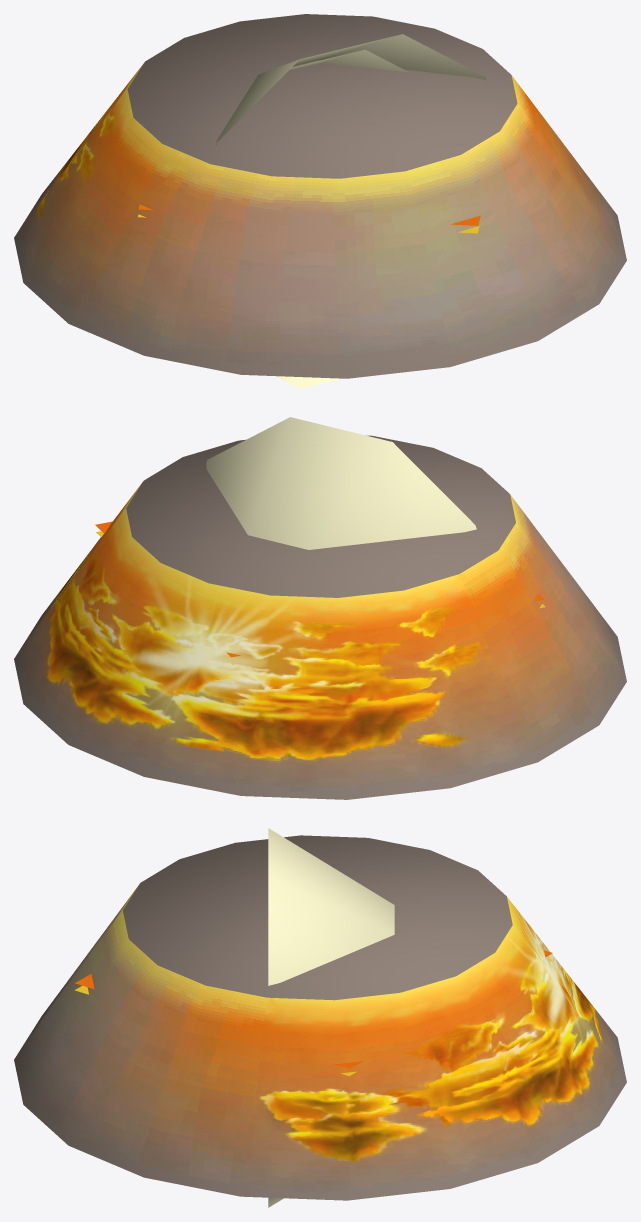
File: TROLLHOLESKYBOX.obj
3 views of the same model, one above another, from view 1: azimuth 30°, elevation 25°; view 2: azimuth 150°, elevation 25°; view 3: azimuth 270°, elevation 25° (orthographic).
Visible parts, largest first — view 1: Skybox01, SunBeamsB, SunbeamsA; view 2: Skybox01, SunBeamsB; view 3: Skybox01, SunBeamsB.
Part boxes in pixels (x1,y1,x2,y2): Skybox01: [14, 14, 626, 378]; SunBeamsB: [216, 34, 486, 388]; SunbeamsA: [289, 49, 409, 72]; Skybox01: [14, 435, 626, 799]; SunBeamsB: [206, 417, 476, 549]; Skybox01: [14, 835, 626, 1200]; SunBeamsB: [268, 828, 394, 1207].
Bounding box in the file's own units: 8818 × 5237 × 8818.
